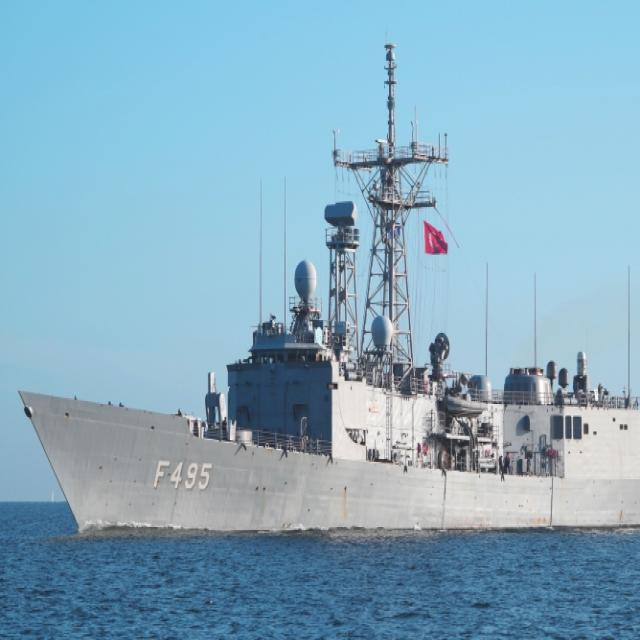Fragata: (15, 26, 640, 553)
